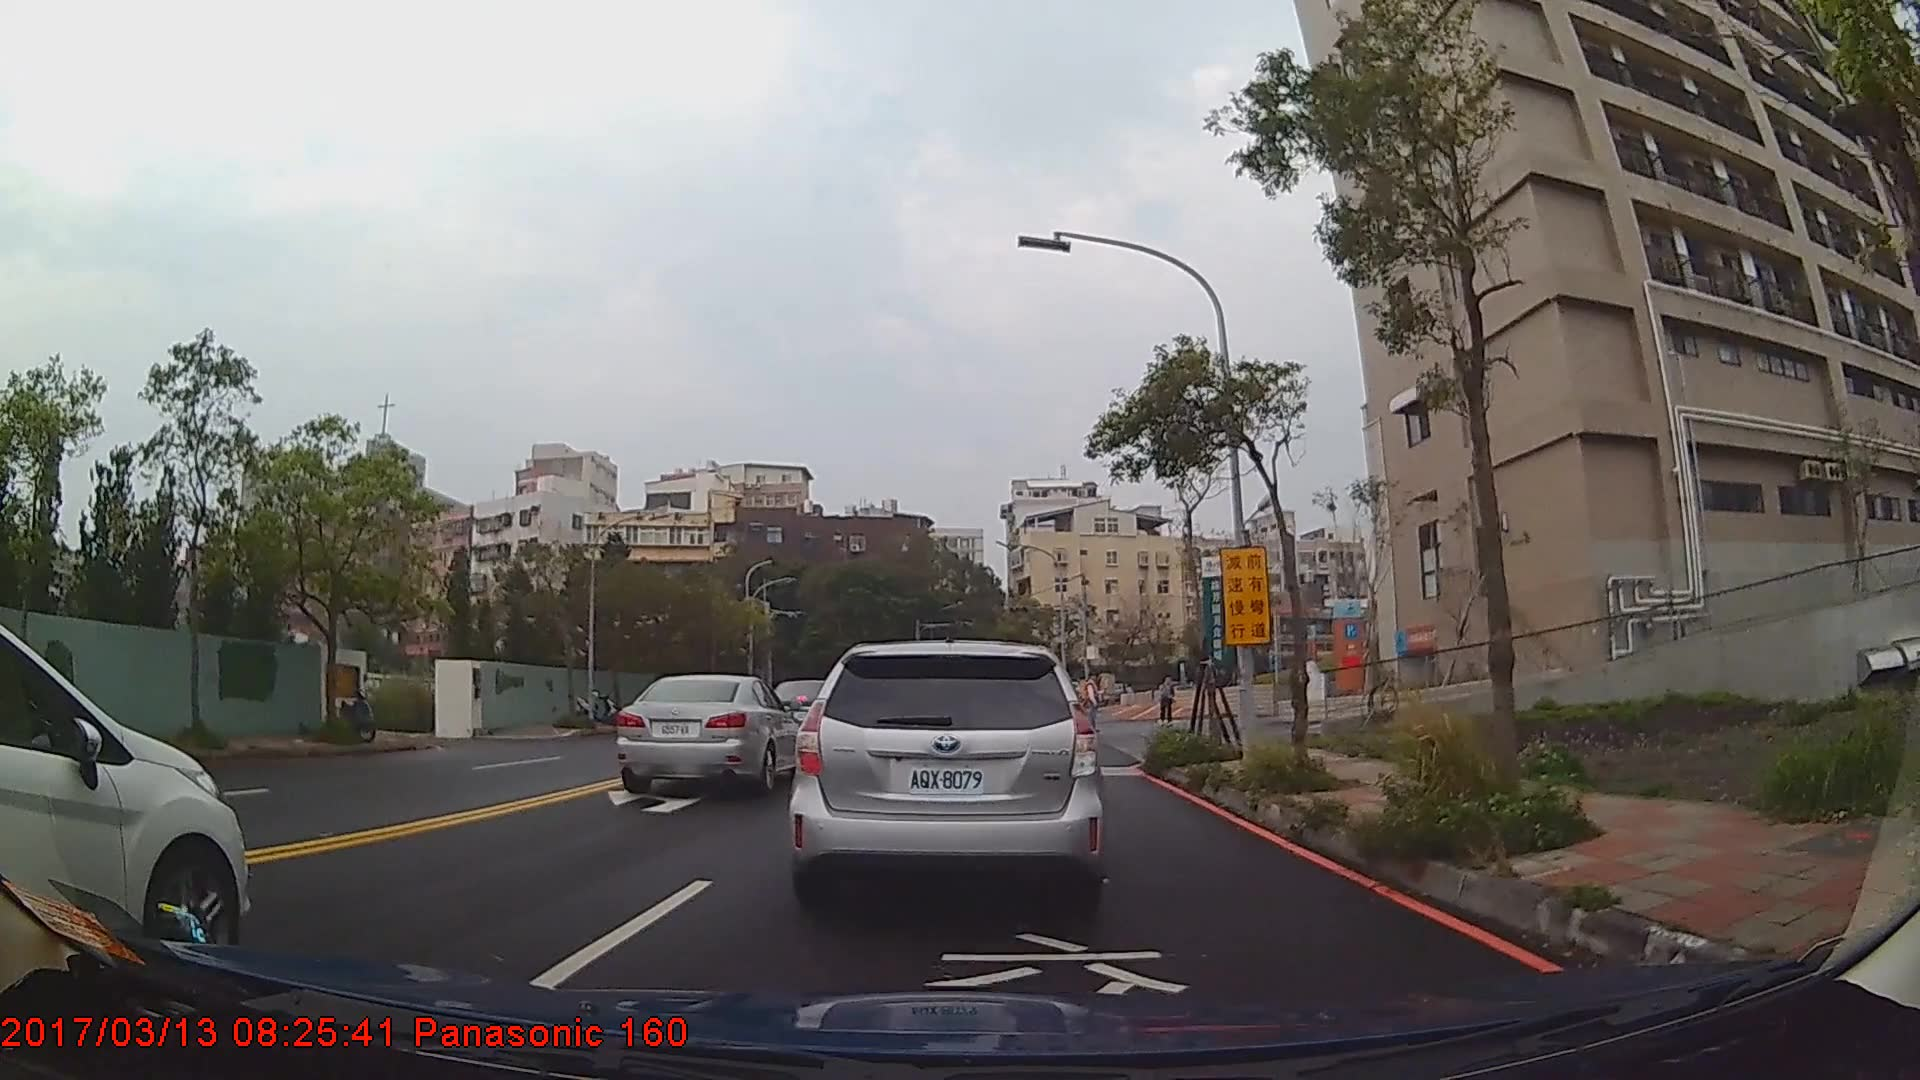pedestrian: (1082, 668, 1108, 739)
vehicle: (785, 637, 1108, 923), (0, 621, 252, 964), (616, 674, 804, 793)
